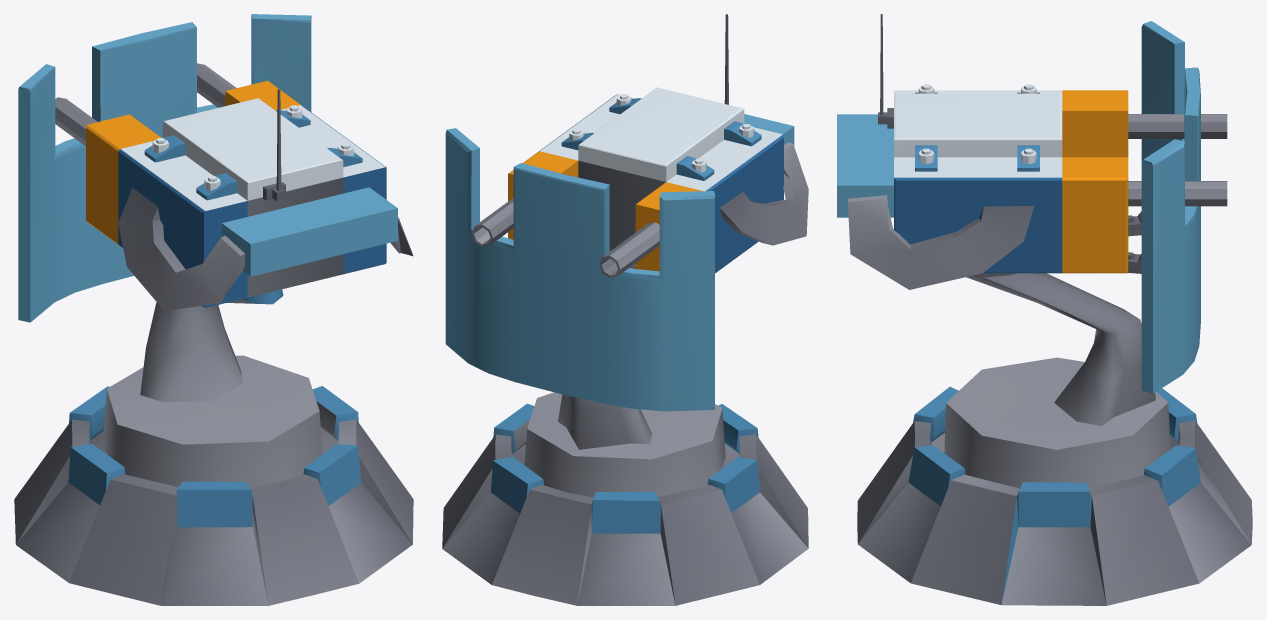
Rendered from Sci_Fi_Gun_03.fbx.
3 renders of one model, left to right at view 1: azimuth 30°, elevation 25°; view 2: azimuth 150°, elevation 25°; view 3: azimuth 270°, elevation 25°, orthographic. The views are drawn at different scales.
Parts seen in each view (by area): view 1: model_Mesh, __PrenotatoPerDuplicare_010; view 2: model_Mesh, __PrenotatoPerDuplicare_010; view 3: __PrenotatoPerDuplicare_010, model_Mesh.
Boxes of the visible parts, left/top/right/bottom form: model_Mesh: left=18, top=14, right=413, bottom=322; __PrenotatoPerDuplicare_010: left=14, top=289, right=413, bottom=605; model_Mesh: left=445, top=14, right=808, bottom=411; __PrenotatoPerDuplicare_010: left=442, top=392, right=808, bottom=605; __PrenotatoPerDuplicare_010: left=857, top=273, right=1252, bottom=605; model_Mesh: left=837, top=14, right=1227, bottom=393.
Bounding box in the file's own units: 147 × 204 × 155.
Materials: 1 (1 with a texture image).
